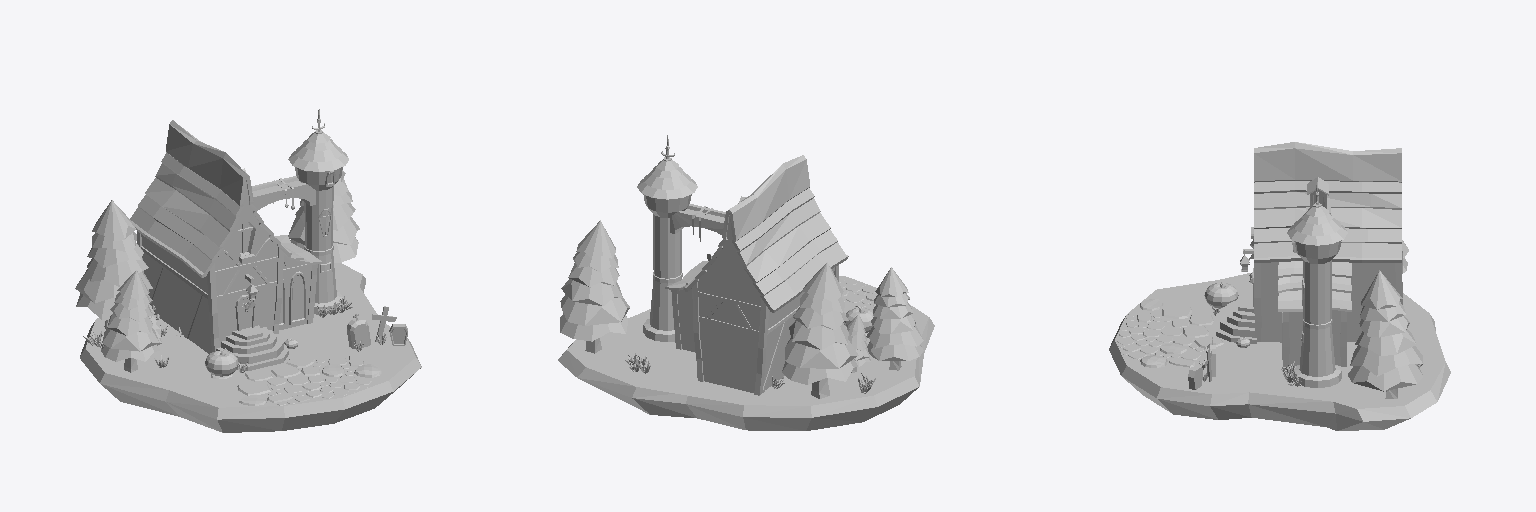
The model's file is house.obj.
The picture shows the model from 3 angles: view 1: azimuth 30°, elevation 25°; view 2: azimuth 150°, elevation 25°; view 3: azimuth 270°, elevation 25°; orthographic projection.
Parts seen in each view (by area): view 1: Cylinder, roof_01_Куб.007, house_01_Куб.001, tree_03_Cone.018, tree_02_Cube.028, tower_Цилиндр, tree_01_Cone.006, bridge_Куб.009, house_win_02_Plane.003, Cube.018_Cube.039, pupmpkin_01_Sphere.001, house_02_Куб.002 (+6 smaller); view 2: Cylinder, roof_01_Куб.007, house_01_Куб.001, tree_03_Cone.018, tree_01_Cone.006, tower_Цилиндр, tree_02_Cube.028, bridge_Куб.009, house_02_Куб.002, Cube.020_Cube.046, tree_04_Cone.012, tower_roof_01_Цилиндр.006 (+2 smaller); view 3: Cylinder, roof_01_Куб.007, tree_01_Cone.006, tower_Цилиндр, house_01_Куб.001, roof__02_Куб.010, house_02_Куб.002, pupmpkin_01_Sphere.001, tower_roof_01_Цилиндр.006, tower_roof_02_Цилиндр.007, Cube.019.
Part boxes in pixels (x1,y1,x2,y2): Cylinder: (80,263,421,432); roof_01_Куб.007: (130,120,291,277); house_01_Куб.001: (141,182,277,353); tree_03_Cone.018: (75,200,152,319); tree_02_Cube.028: (101,270,159,361); tower_Цилиндр: (295,167,342,314); tree_01_Cone.006: (288,170,359,262); bridge_Куб.009: (252,176,315,209); house_win_02_Plane.003: (289,271,306,324); Cube.018_Cube.039: (207,263,219,351); pupmpkin_01_Sphere.001: (205,351,238,376); house_02_Куб.002: (279,257,311,329); Cylinder: (558,276,934,430); roof_01_Куб.007: (684,155,848,312); house_01_Куб.001: (698,216,834,392); tree_03_Cone.018: (782,262,858,384); tree_01_Cone.006: (560,220,629,341); tower_Цилиндр: (643,194,691,341); tree_02_Cube.028: (866,267,923,360); bridge_Куб.009: (670,204,725,234); house_02_Куб.002: (677,289,695,352); Cube.020_Cube.046: (754,298,768,395); tree_04_Cone.012: (847,314,870,366); tower_roof_01_Цилиндр.006: (637,179,697,199); Cylinder: (1109,272,1450,430); roof_01_Куб.007: (1254,142,1401,262); tree_01_Cone.006: (1348,270,1422,391); tower_Цилиндр: (1293,240,1341,387); house_01_Куб.001: (1261,262,1395,341); roof__02_Куб.010: (1278,261,1351,311); house_02_Куб.002: (1289,310,1340,365); pupmpkin_01_Sphere.001: (1204,283,1238,308); tower_roof_01_Цилиндр.006: (1287,225,1347,245); tower_roof_02_Цилиндр.007: (1294,218,1340,235); Cube.019: (1254,263,1261,341).
Bounding box in the file's own units: 20.83 × 14.82 × 20.07.